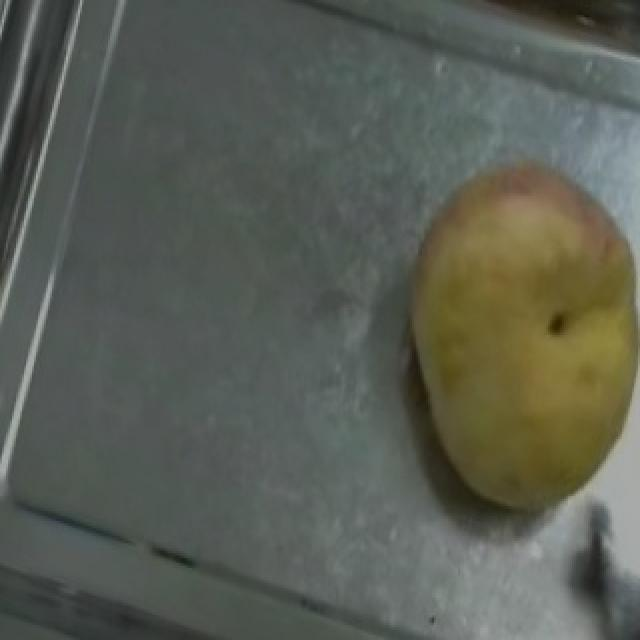Fruit: (356, 121, 640, 514)
